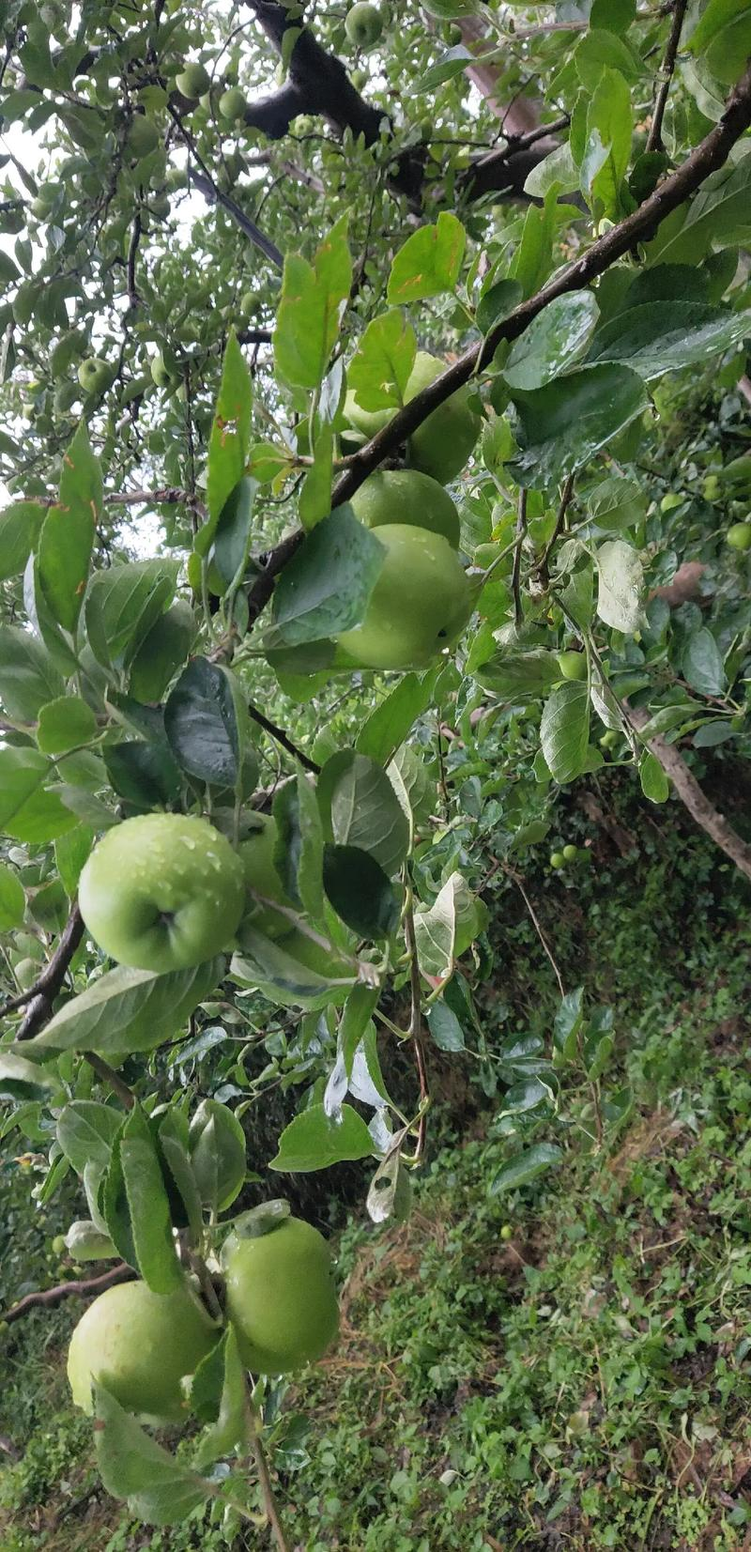unripe: (67, 796, 253, 978), (178, 1200, 344, 1378), (44, 1271, 214, 1441), (305, 511, 475, 673)
